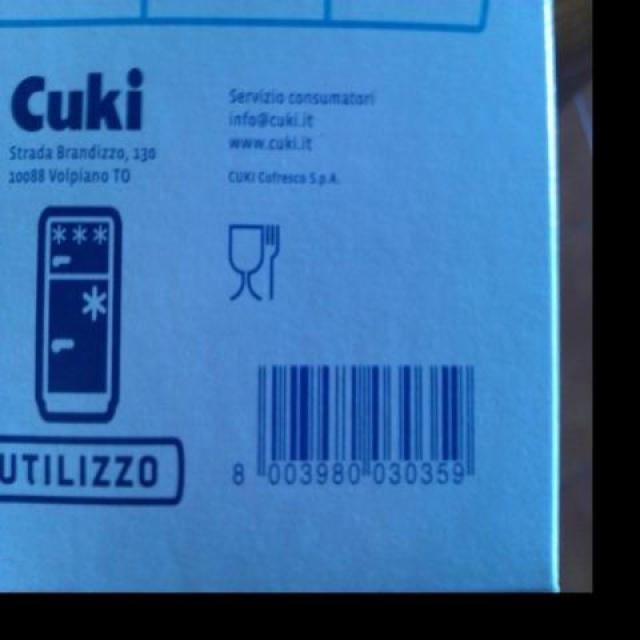Barcode: (224, 342, 492, 506)
